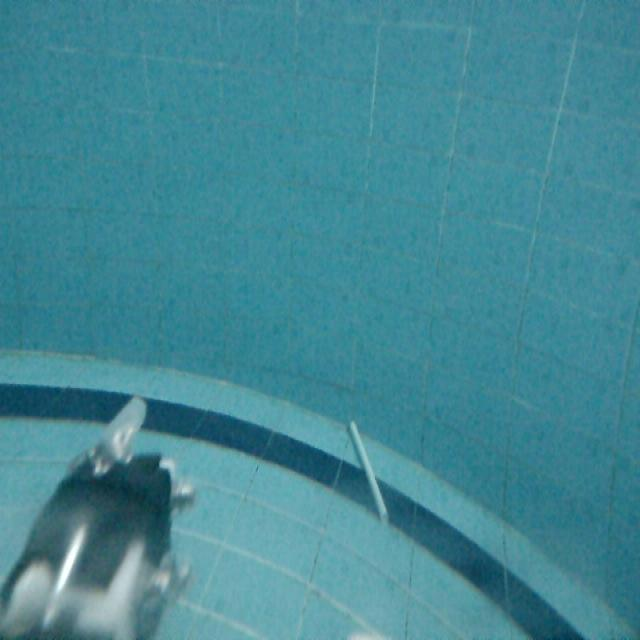Cube: (344, 419, 394, 533)
